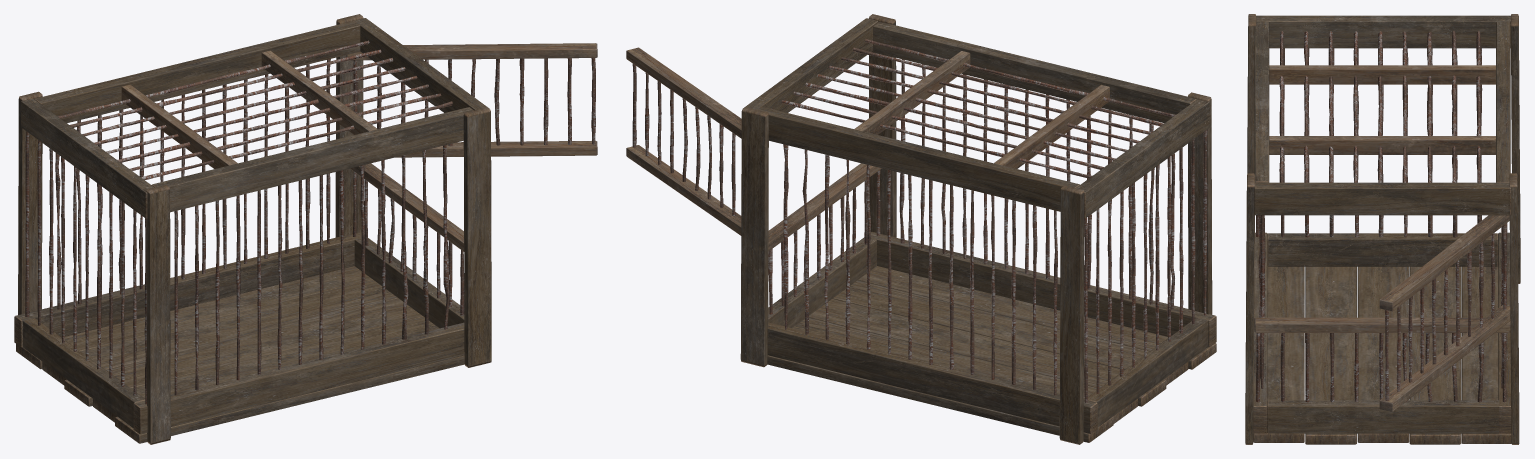
Rendered from SM_SmallAnimalCage_B.fbx.
3 renders of one model, left to right at view 1: azimuth 30°, elevation 25°; view 2: azimuth 150°, elevation 25°; view 3: azimuth 270°, elevation 25°, orthographic. The views are drawn at different scales.
Visible parts, largest first — view 1: SM_SmallAnimalCage_B_LOD0; view 2: SM_SmallAnimalCage_B_LOD0; view 3: SM_SmallAnimalCage_B_LOD0.
Boxes of the visible parts, x1=… form: SM_SmallAnimalCage_B_LOD0: x1=14, y1=14, x2=597, y2=444; SM_SmallAnimalCage_B_LOD0: x1=626, y1=14, x2=1216, y2=444; SM_SmallAnimalCage_B_LOD0: x1=1245, y1=14, x2=1520, y2=444.
Size of the model in its own units: 78.73 by 34.7 by 36.14.
Materials: 1 (1 with a texture image).
